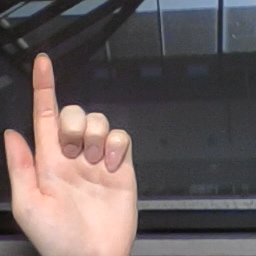F: (5, 51, 145, 245)
